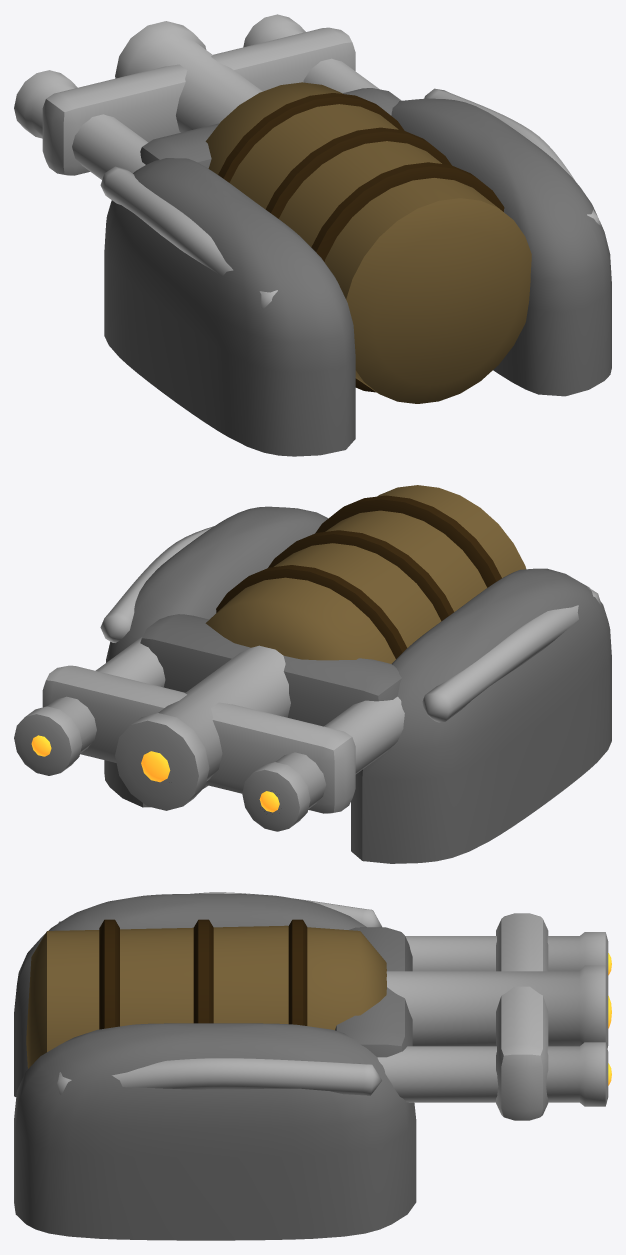
The model's file is sk_vulcan.glb.
3 views of the same model, one above another, from view 1: azimuth 30°, elevation 25°; view 2: azimuth 150°, elevation 25°; view 3: azimuth 270°, elevation 25° (orthographic).
Visible parts, largest first — view 1: cheek, drum, cheek.001, clamp, barrel.001, barrel, cheek_edge, drum_band, drum_band.001, drum_band.002, housing, barrel.002 (+1 smaller); view 2: cheek, drum, clamp, barrel.001, cheek.001, housing, barrel, barrel.002, cheek_edge, drum_band, drum_band.002, drum_band.001 (+2 smaller); view 3: cheek.001, drum, barrel.001, cheek, barrel.002, clamp, cheek_edge.001, barrel, housing, drum_band, drum_band.001, drum_band.002 (+1 smaller).
Boxes of the visible parts, x1,y1,x2,y2 form: cheek: (104, 158, 355, 456); drum: (205, 82, 531, 403); cheek.001: (391, 98, 611, 396); clamp: (42, 27, 355, 175); barrel.001: (115, 21, 262, 132); barrel: (14, 70, 148, 179); cheek_edge: (100, 166, 277, 309); drum_band: (311, 162, 504, 392); drum_band.001: (265, 127, 451, 218); drum_band.002: (218, 93, 404, 182); housing: (140, 88, 401, 168); barrel.002: (243, 14, 379, 93); cheek: (351, 568, 611, 863); drum: (205, 485, 526, 663); clamp: (42, 665, 355, 813); barrel.001: (115, 645, 290, 810); cheek.001: (104, 506, 328, 807); housing: (140, 614, 401, 726); barrel: (242, 696, 404, 831); barrel.002: (14, 637, 165, 775); cheek_edge: (422, 587, 601, 722); drum_band: (315, 495, 501, 587); drum_band.002: (216, 565, 406, 658); drum_band.001: (268, 530, 453, 621); cheek.001: (14, 1023, 416, 1240); drum: (26, 925, 386, 1068); barrel.001: (386, 965, 608, 1048); cheek: (14, 893, 366, 1096); barrel.002: (377, 1042, 608, 1106); clamp: (496, 913, 548, 1120); cheek_edge.001: (57, 1058, 381, 1095); barrel: (405, 932, 608, 978); housing: (335, 927, 412, 1057); drum_band: (99, 919, 119, 1029); drum_band.001: (193, 919, 213, 1023); drum_band.002: (288, 919, 307, 1025).
Size of the model in its own units: 8.26 by 4.64 by 11.45.
